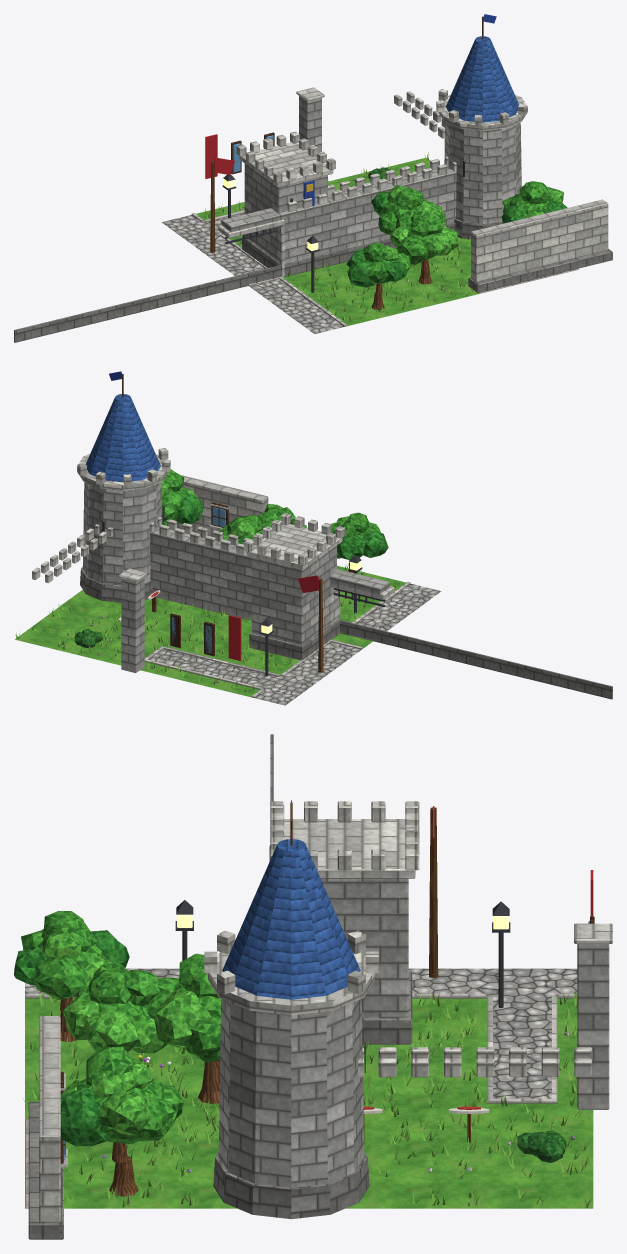
The model's file is chunk_2_1.glb.
3 views of the same model, one above another, from view 1: azimuth 30°, elevation 25°; view 2: azimuth 150°, elevation 25°; view 3: azimuth 270°, elevation 25° (orthographic). The views are drawn at different scales.
Visible parts, largest first — view 1: chunk_2_1; view 2: chunk_2_1; view 3: chunk_2_1.
Boxes of the visible parts, x1=… form: chunk_2_1: x1=14, y1=14, x2=612, y2=342; chunk_2_1: x1=15, y1=371, x2=612, y2=705; chunk_2_1: x1=14, y1=734, x2=612, y2=1239.
Bounding box in the file's own units: 32.2 × 12.12 × 16.86.
29 materials, 16 textured.
